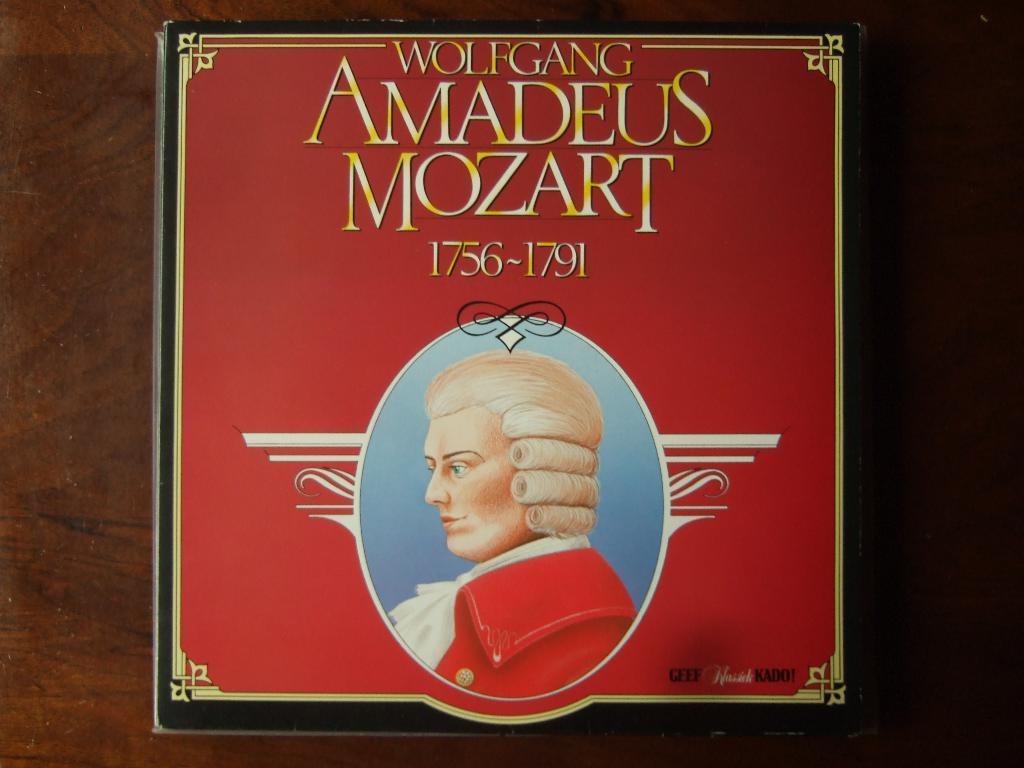book: (145, 19, 870, 743)
